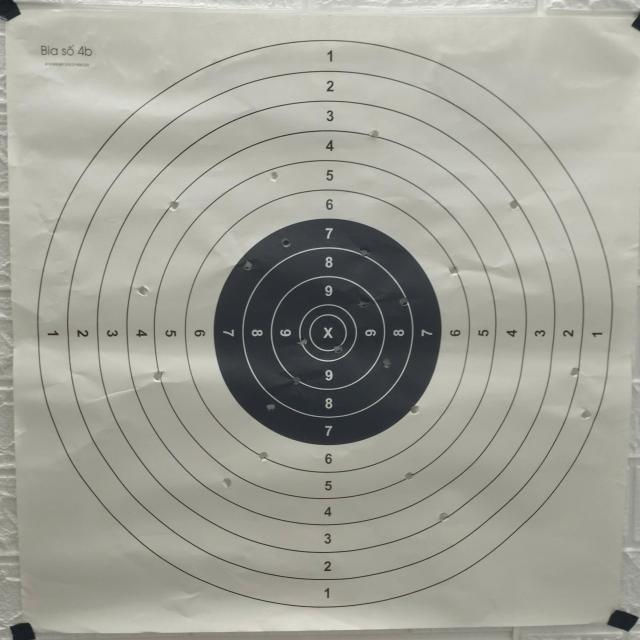bullet: (168, 200, 180, 212), (136, 284, 148, 296), (408, 404, 420, 416), (280, 236, 292, 248), (508, 200, 520, 211), (580, 408, 592, 419), (152, 372, 164, 383), (224, 476, 232, 488), (400, 296, 408, 308), (368, 128, 380, 136), (448, 264, 456, 276), (332, 344, 344, 352), (268, 172, 280, 180), (244, 260, 252, 272), (297, 338, 307, 346), (572, 368, 580, 376), (440, 512, 448, 520), (384, 360, 392, 368), (404, 472, 412, 480), (360, 248, 368, 256), (268, 404, 276, 412), (260, 452, 268, 460), (360, 300, 368, 308), (292, 376, 300, 384)
target: (8, 16, 624, 632)
